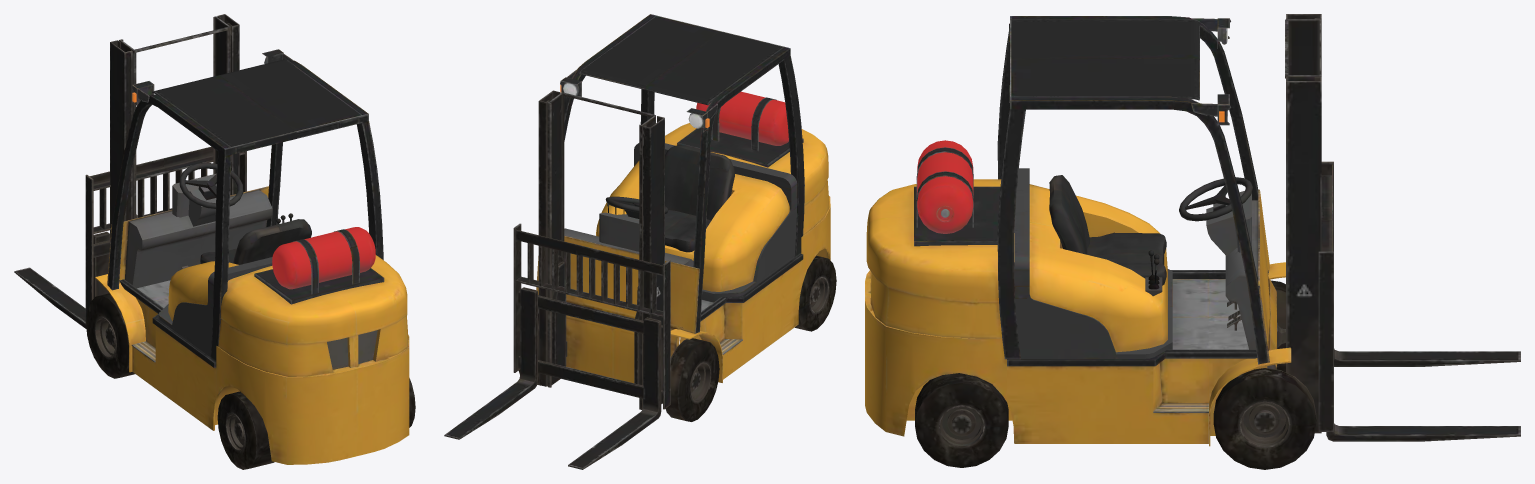
Rendered from forklift.glb.
3 views of the same model, side by side, from view 1: azimuth 30°, elevation 25°; view 2: azimuth 150°, elevation 25°; view 3: azimuth 270°, elevation 25° (orthographic). The views are drawn at different scales.
Parts seen in each view (by area): view 1: forklift_body_A_forkA:forklift_body_ASG1_0, forklift_body_B_lambert3_0, forklift_body_A_forkA:initialShadingGroup1_0; view 2: forklift_body_B_lambert3_0, forklift_body_A_forkA:forklift_body_ASG1_0, forklift_body_A_forkA:initialShadingGroup1_0; view 3: forklift_body_A_forkA:forklift_body_ASG1_0, forklift_body_B_lambert3_0, forklift_body_A_forkA:initialShadingGroup1_0.
Part boxes in pixels (x1,y1,x2,y2): forklift_body_A_forkA:forklift_body_ASG1_0: (95,59,409,464); forklift_body_B_lambert3_0: (14,14,415,469); forklift_body_A_forkA:initialShadingGroup1_0: (131,49,384,304); forklift_body_B_lambert3_0: (444,90,836,469); forklift_body_A_forkA:forklift_body_ASG1_0: (564,14,830,382); forklift_body_A_forkA:initialShadingGroup1_0: (560,69,803,167); forklift_body_A_forkA:forklift_body_ASG1_0: (865,16,1291,446); forklift_body_B_lambert3_0: (915,14,1520,469); forklift_body_A_forkA:initialShadingGroup1_0: (914,18,1230,246).
Size of the model in its own units: 156 by 268 by 426.
3 materials, 3 textured.
